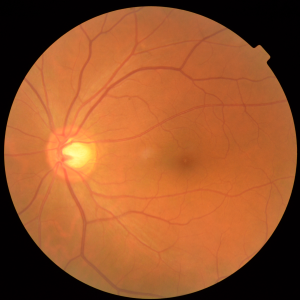glaucoma: (34, 98, 228, 219)
